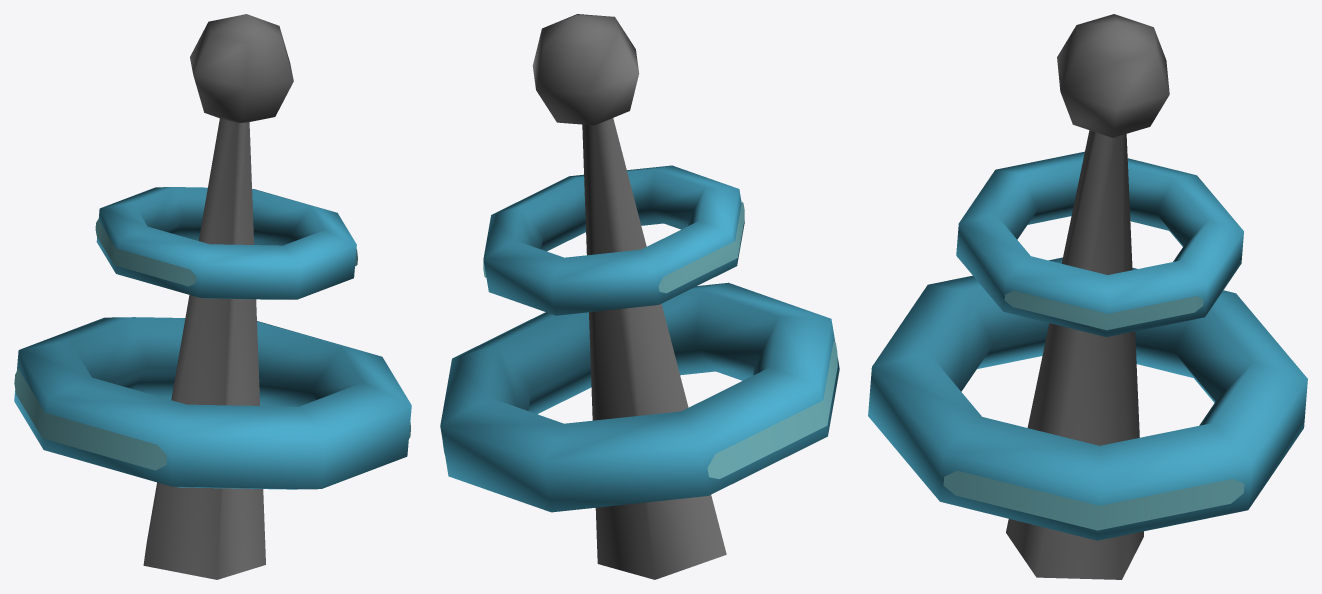
File: attachmentB.fbx
The picture shows the model from 3 angles, left to right: view 1: azimuth 30°, elevation 25°; view 2: azimuth 150°, elevation 25°; view 3: azimuth 270°, elevation 25°; orthographic projection. The views are drawn at different scales.
Visible parts, largest first — view 1: attachmentB; view 2: attachmentB; view 3: attachmentB.
Part boxes in pixels (<box>): attachmentB: <box>14,14,411,579</box>; attachmentB: <box>440,14,839,579</box>; attachmentB: <box>868,14,1307,579</box>.
Size of the model in its own units: 16.45 by 23.41 by 16.41.
